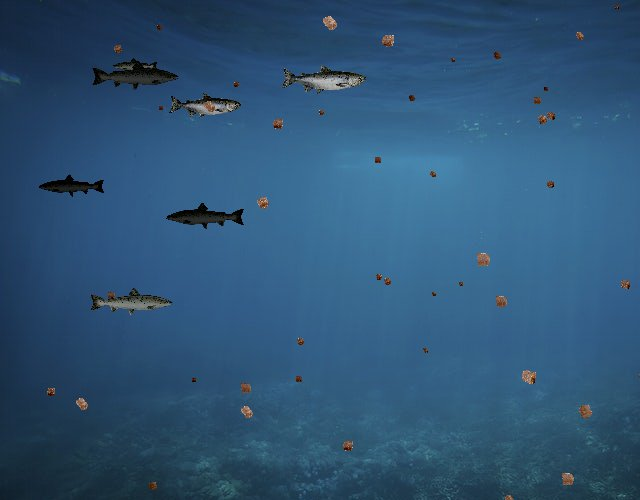Fish: (90, 60, 180, 92), (88, 286, 174, 317), (280, 64, 366, 95), (165, 202, 246, 231), (168, 93, 241, 119), (38, 173, 106, 198), (112, 57, 159, 74)
Pellet: (314, 8, 344, 38), (469, 245, 497, 273), (489, 289, 513, 313), (197, 95, 221, 119), (532, 109, 552, 129), (499, 489, 519, 500), (456, 278, 466, 288)
